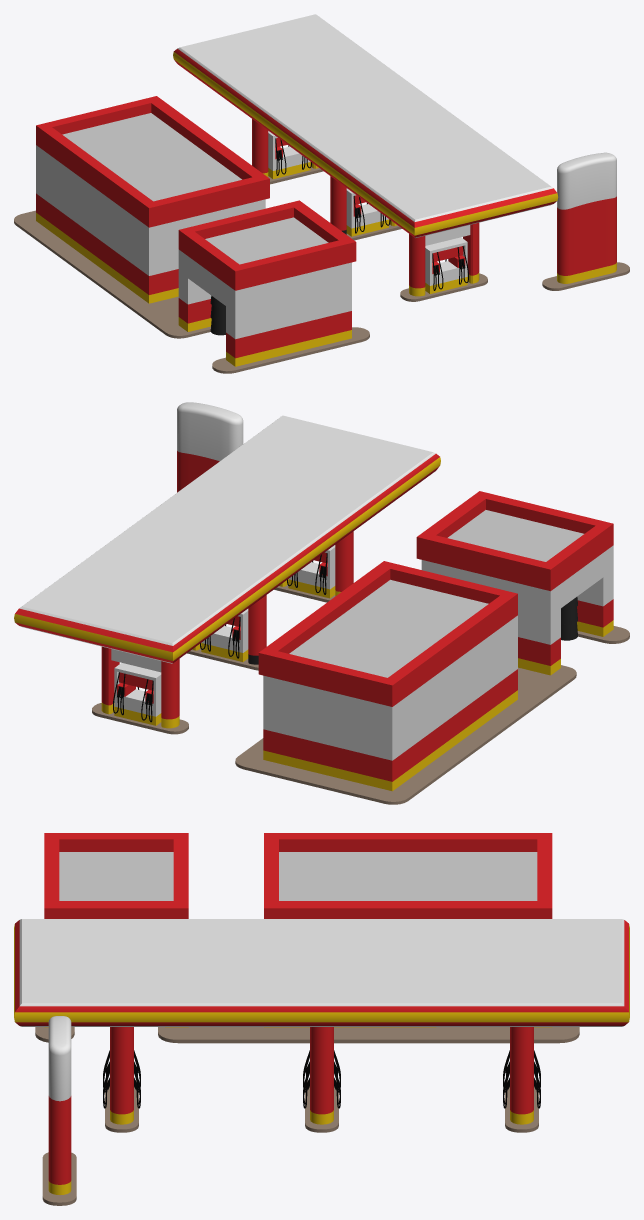
The model's file is gas_shell.glb.
The picture shows the model from 3 angles, top to bottom: view 1: azimuth 30°, elevation 25°; view 2: azimuth 150°, elevation 25°; view 3: azimuth 270°, elevation 25°; orthographic projection. The views are drawn at different scales.
Parts seen in each view (by area): view 1: PublicBuilding_GasStation; view 2: PublicBuilding_GasStation; view 3: PublicBuilding_GasStation.
Part boxes in pixels (<box>): PublicBuilding_GasStation: <box>14,14,629,373</box>; PublicBuilding_GasStation: <box>14,402,629,804</box>; PublicBuilding_GasStation: <box>14,833,629,1205</box>.
Bounding box in the file's own units: 12.22 × 3.36 × 12.32.
1 material, 1 textured.
